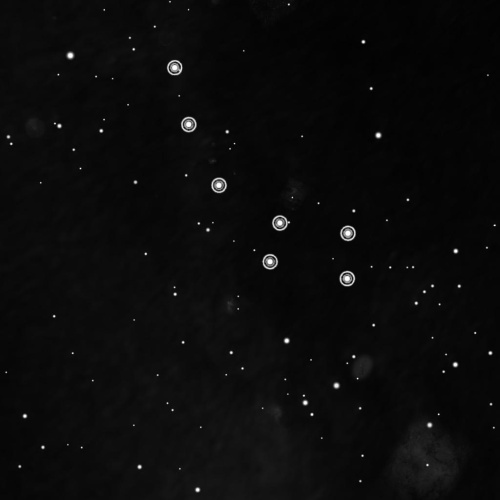ursa_minor: (162, 54, 365, 294)
